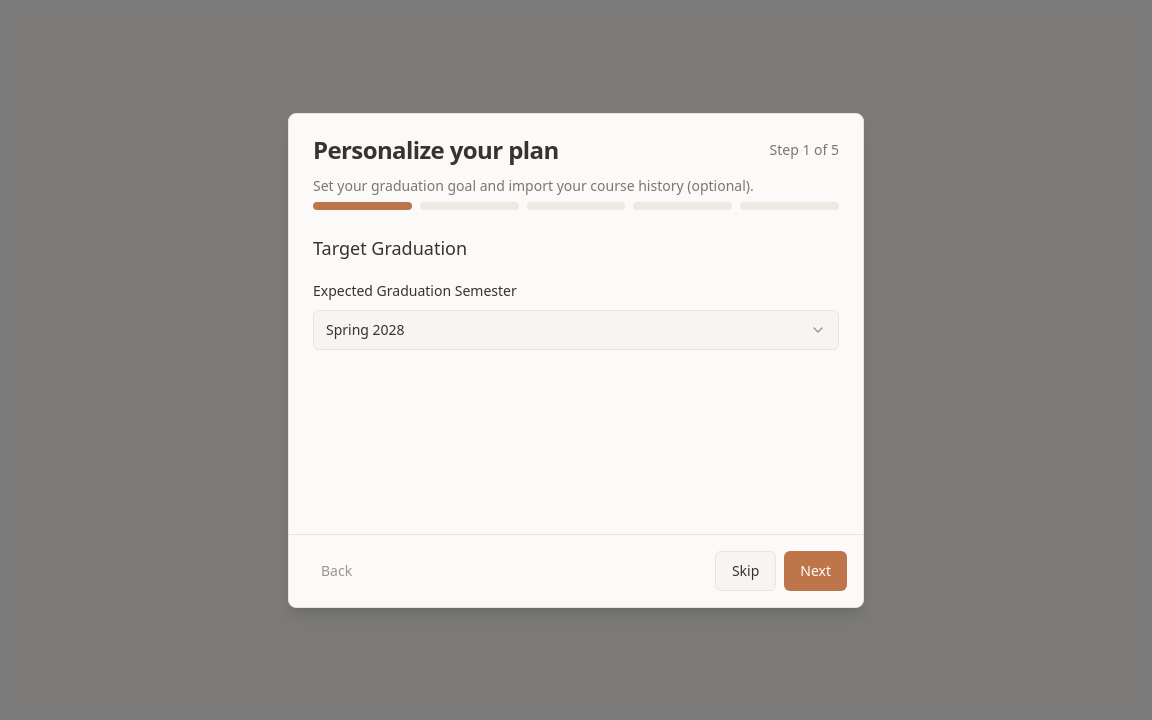
Scenario: OnboardingWizard (TASK-105 5-step flow) › should navigate through all steps
Click the button "Next" at (816, 570), box [784, 550, 847, 590]
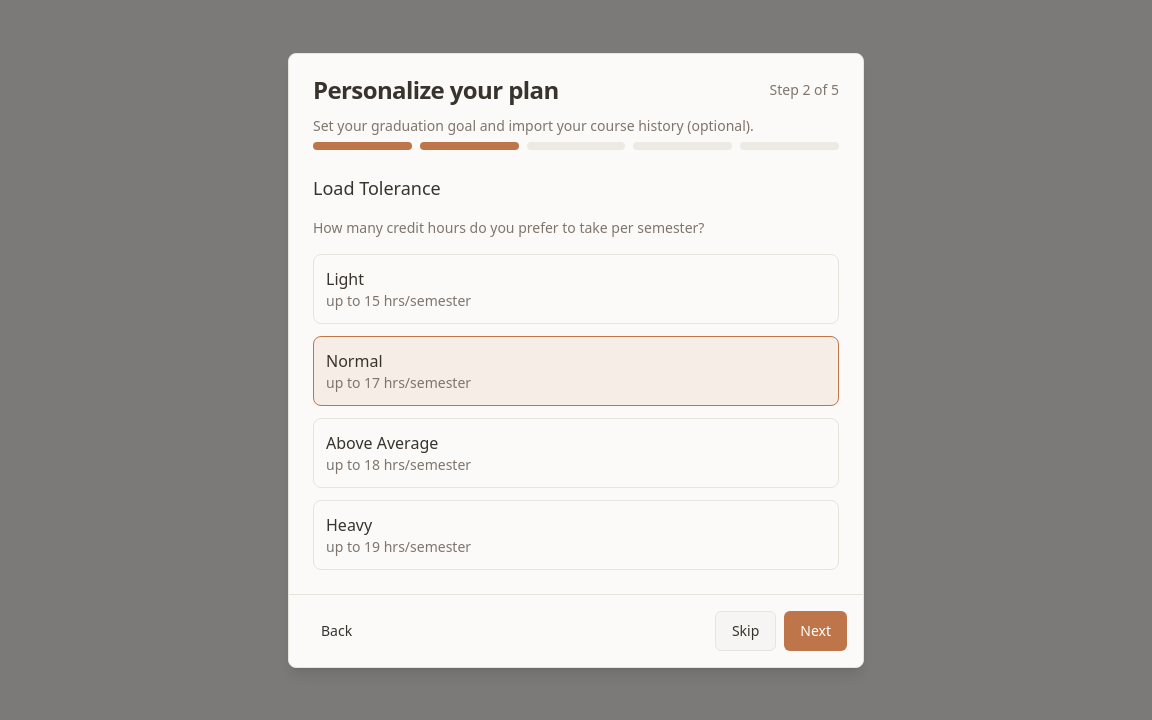
expect the heading "Load Tolerance" is shown: met, box [313, 176, 441, 200]
Click the button "Next" at (816, 630), box [784, 610, 847, 650]
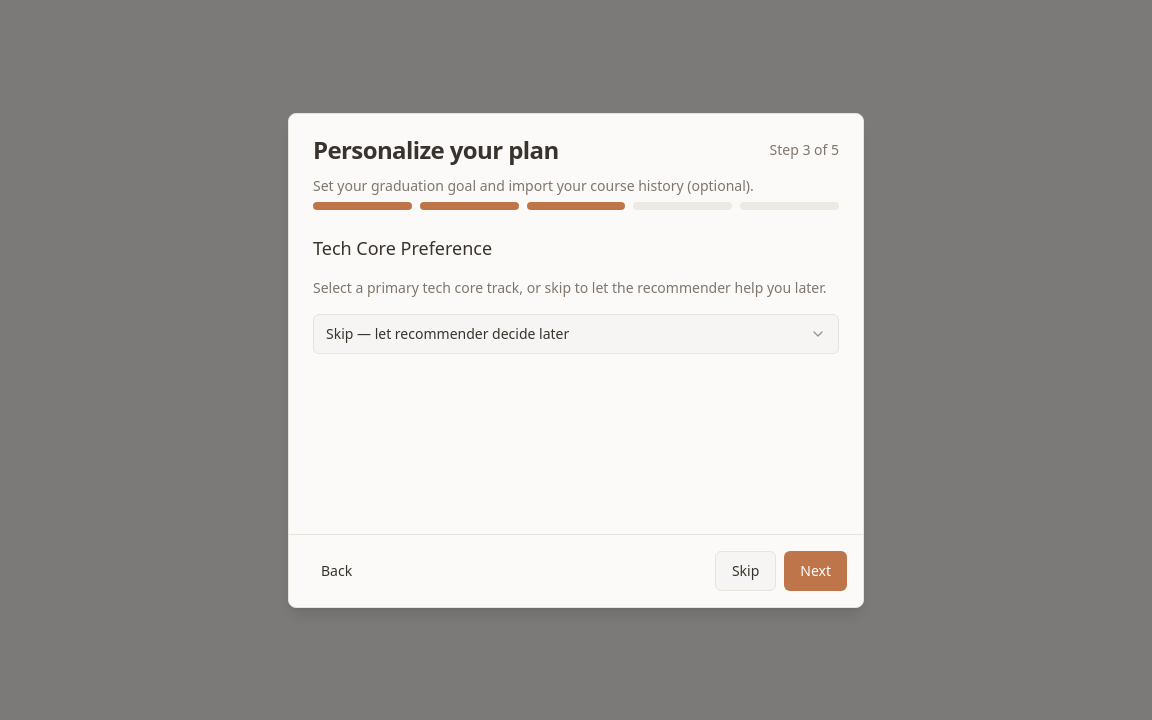
expect the heading "Tech Core Preference" is shown: met, box [313, 236, 492, 260]
Click the button "Next" at (816, 570), box [784, 550, 847, 590]
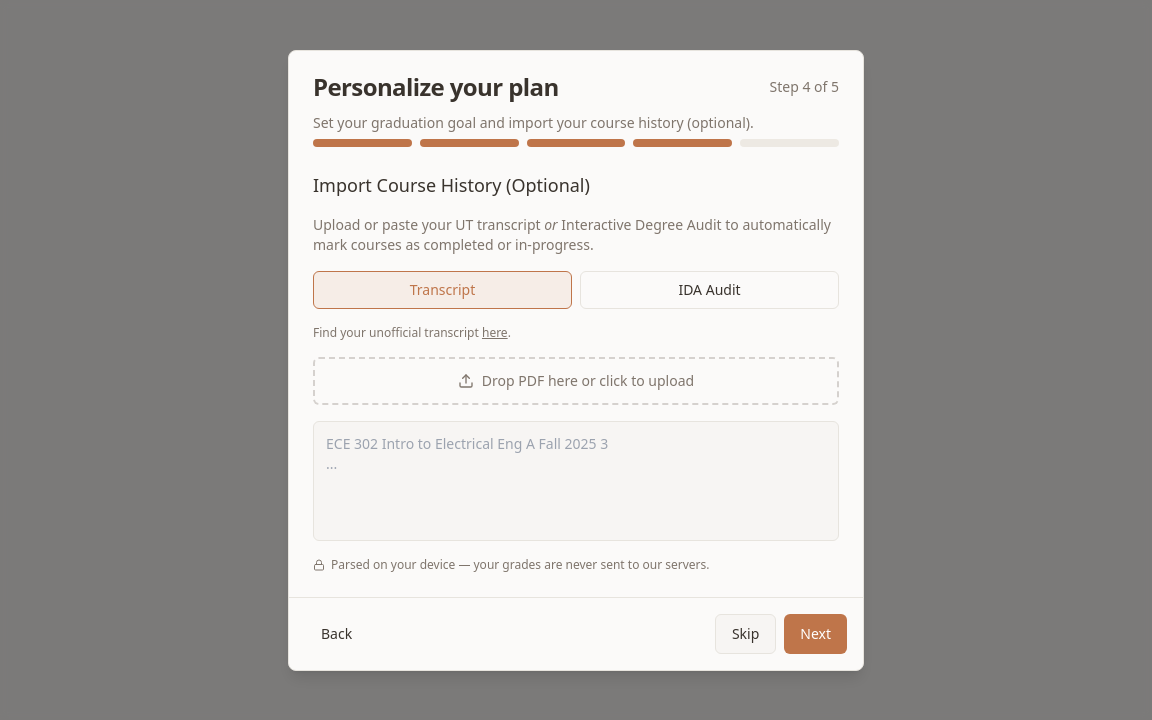
expect the heading "Import Course History (Optional)" is shown: met, box [313, 172, 590, 196]
